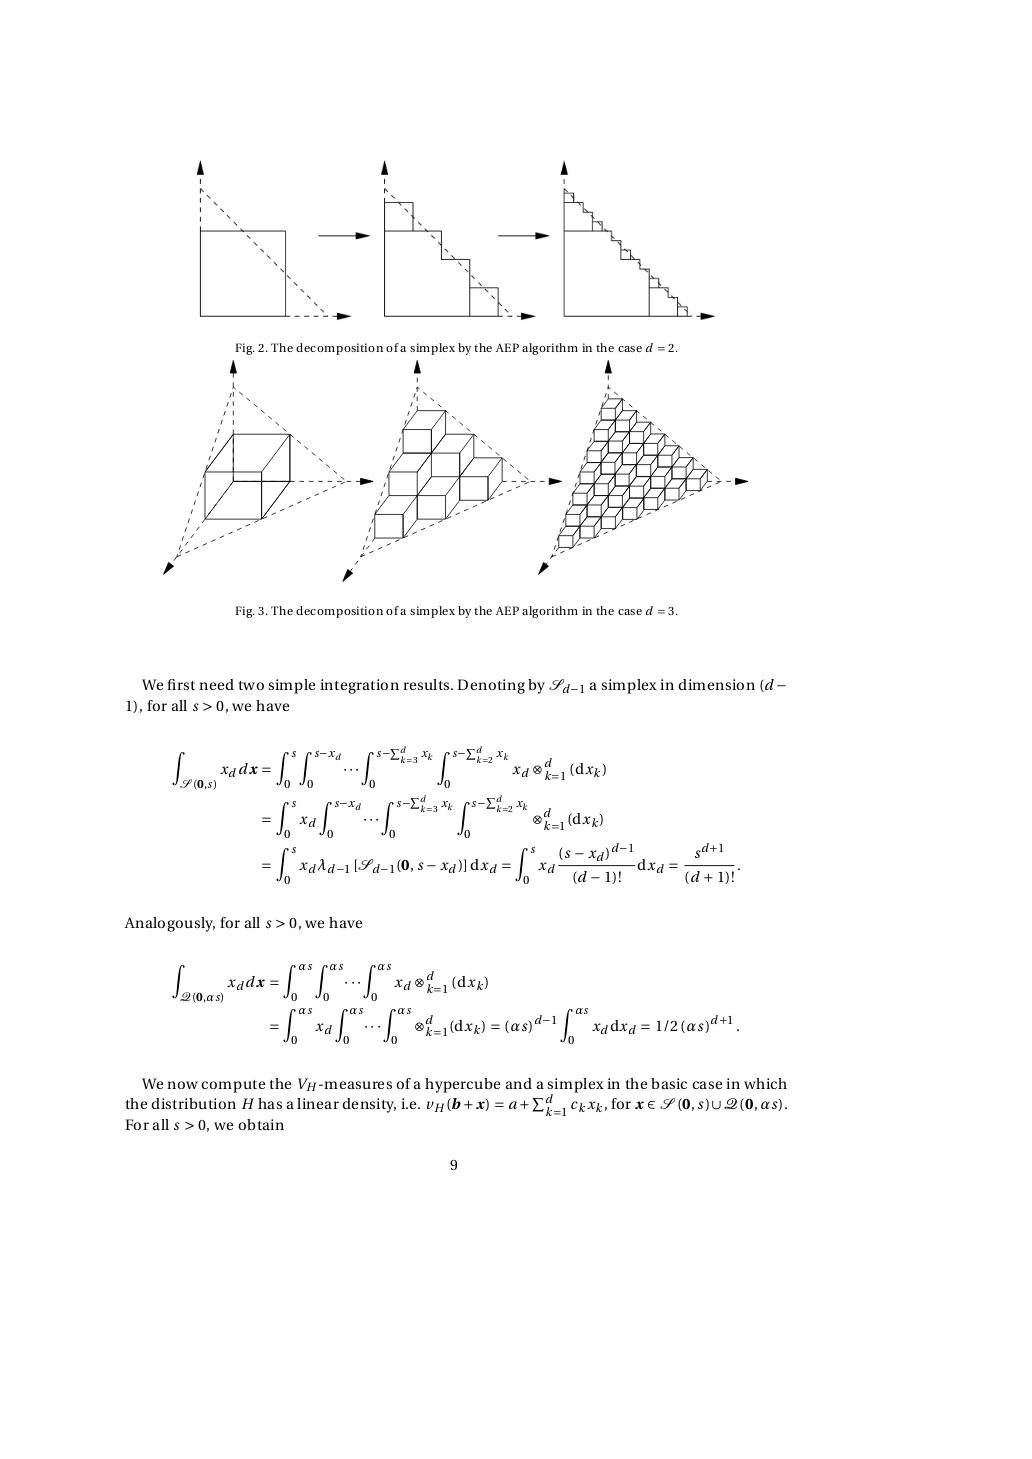figure: (163, 359, 748, 582), (195, 160, 715, 319)
formula: (262, 842, 739, 885), (172, 745, 605, 790), (270, 1007, 738, 1045), (262, 794, 602, 839), (172, 962, 487, 1004)
